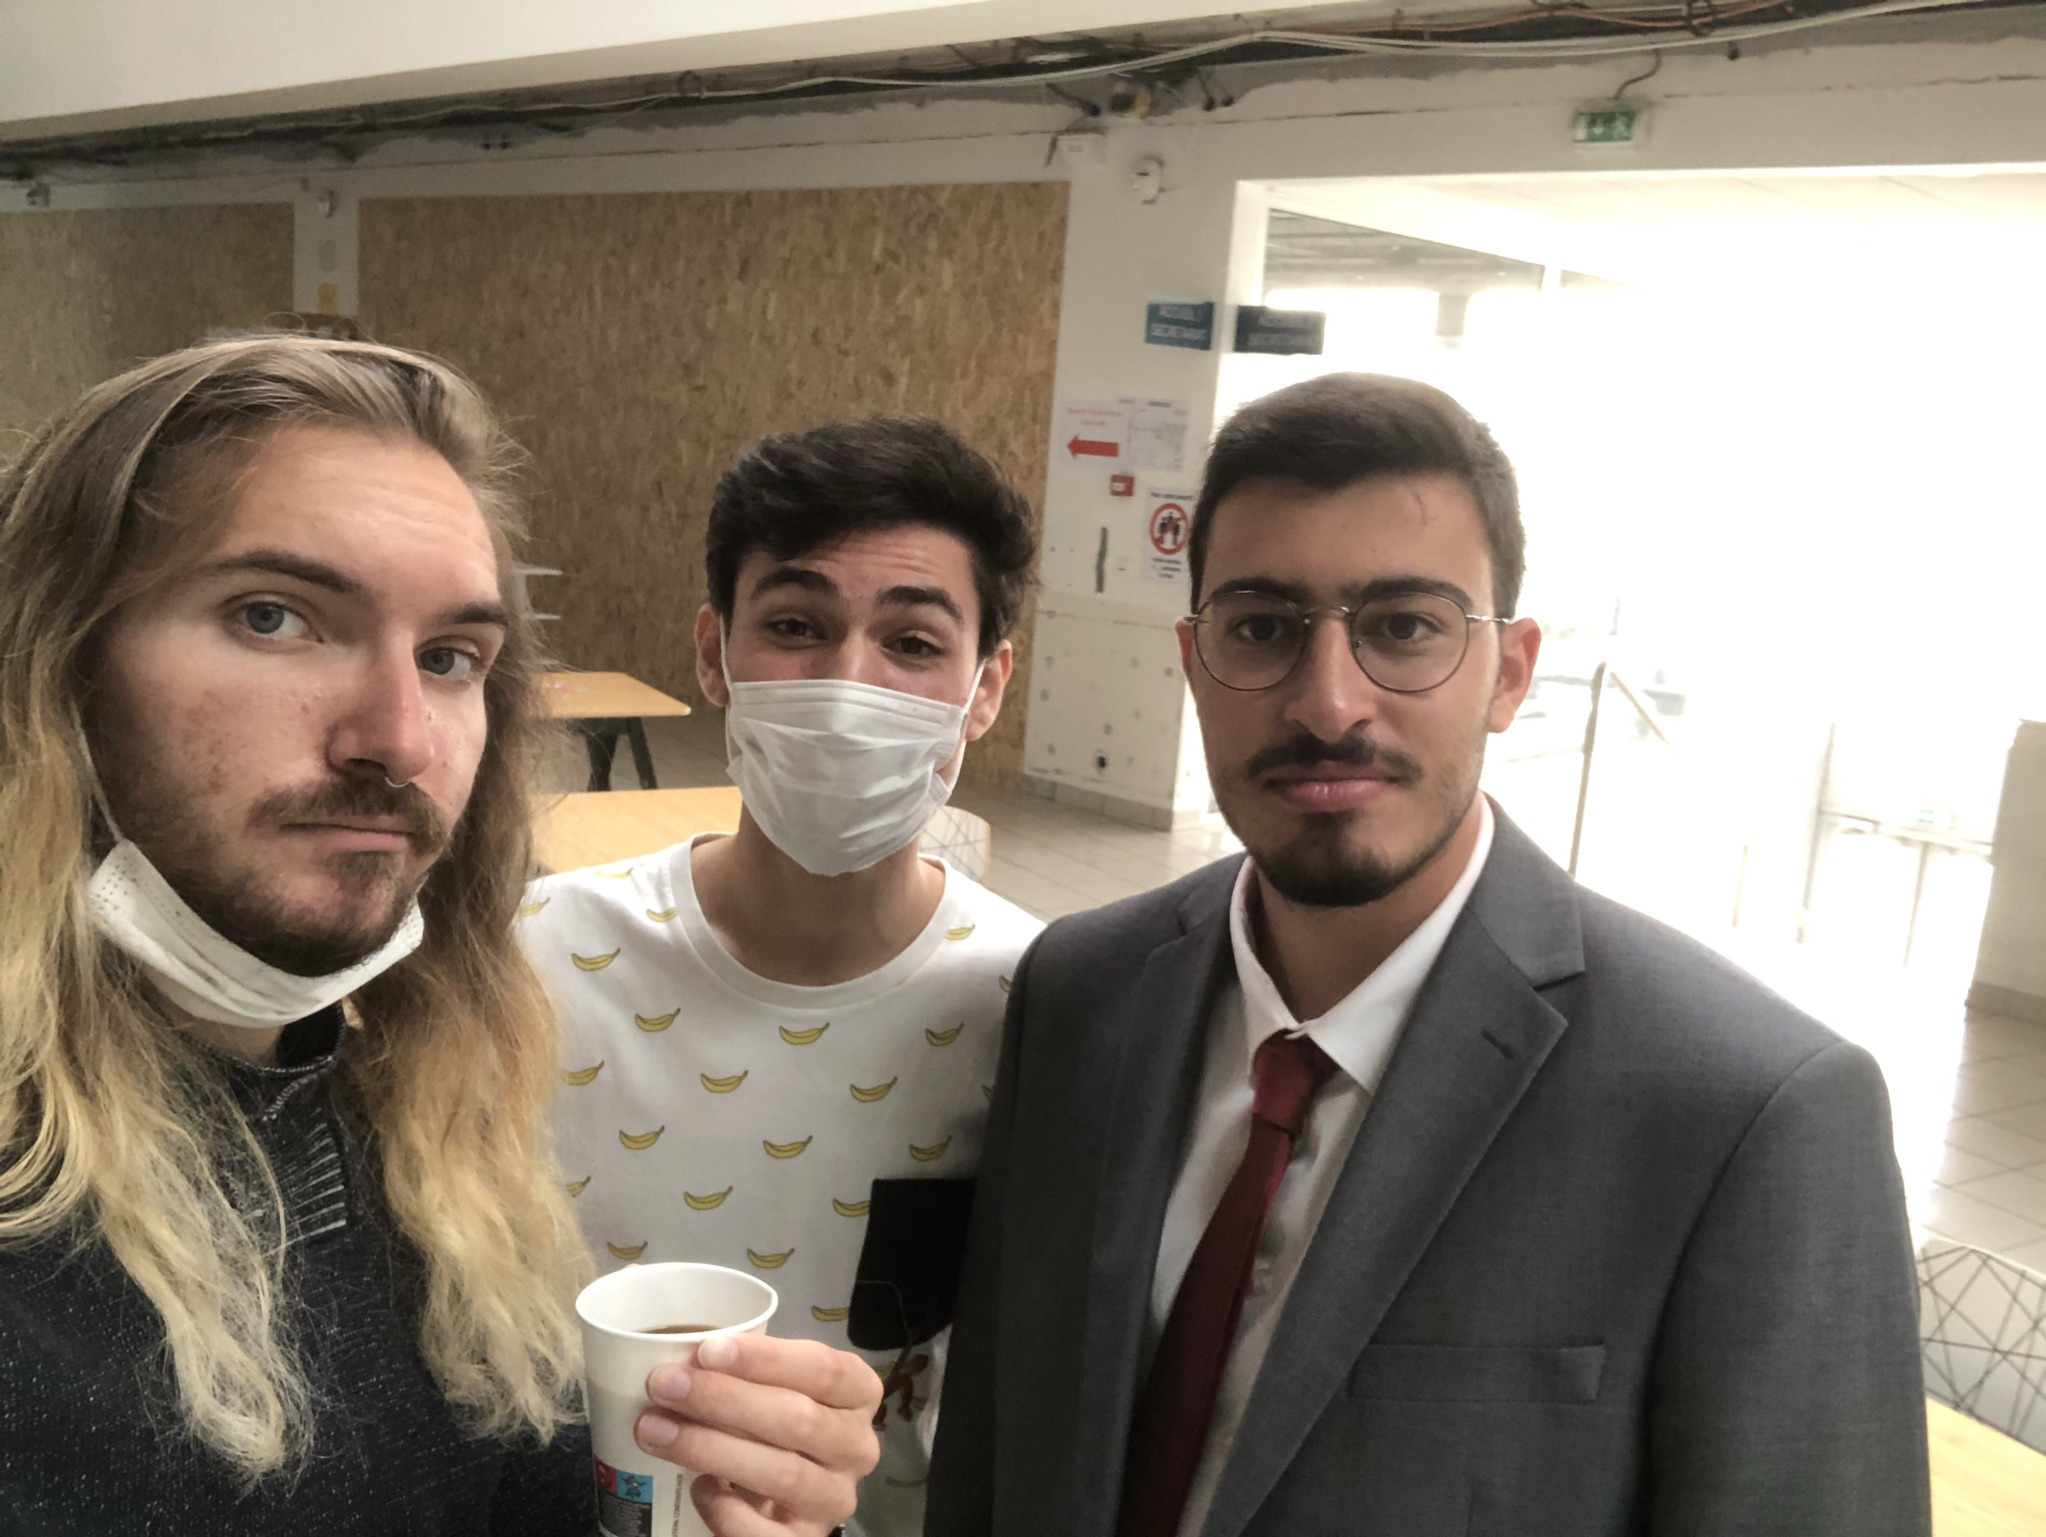with_incorrect_mask: (111, 485, 504, 1035)
with_mask: (711, 525, 966, 866)
without_mask: (1194, 509, 1478, 895)
